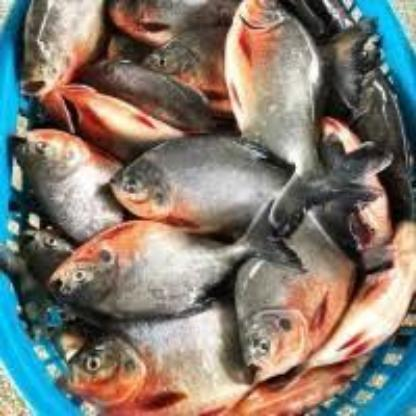ikan-pacu: (224, 0, 343, 190), (236, 200, 348, 378), (62, 307, 224, 413), (48, 221, 230, 314), (110, 134, 284, 221), (13, 127, 126, 232)
